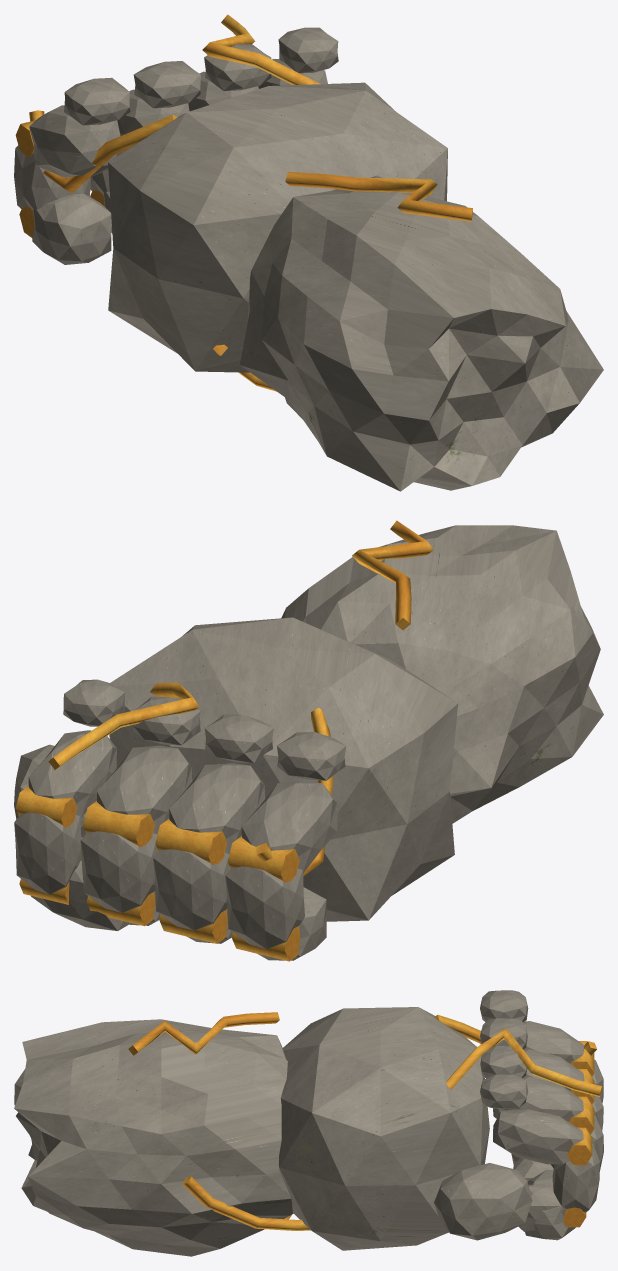
File: HO_Hero_StoneFist_Right.fbx
3 views of the same model, one above another, from view 1: azimuth 30°, elevation 25°; view 2: azimuth 150°, elevation 25°; view 3: azimuth 270°, elevation 25° (orthographic). The views are drawn at different scales.
Parts seen in each view (by area): view 1: HO_Hero_StoneFist_Right, HO_Hero_StoneFist_Right_Glow; view 2: HO_Hero_StoneFist_Right, HO_Hero_StoneFist_Right_Glow; view 3: HO_Hero_StoneFist_Right, HO_Hero_StoneFist_Right_Glow.
Part boxes in pixels (x1,y1,x2,y2): HO_Hero_StoneFist_Right: (14,27,603,491); HO_Hero_StoneFist_Right_Glow: (15,14,472,391); HO_Hero_StoneFist_Right: (14,525,603,960); HO_Hero_StoneFist_Right_Glow: (15,520,433,961); HO_Hero_StoneFist_Right: (14,990,603,1256); HO_Hero_StoneFist_Right_Glow: (128,1012,602,1230).
Size of the model in its own units: 2.35 by 1.78 by 4.3.
